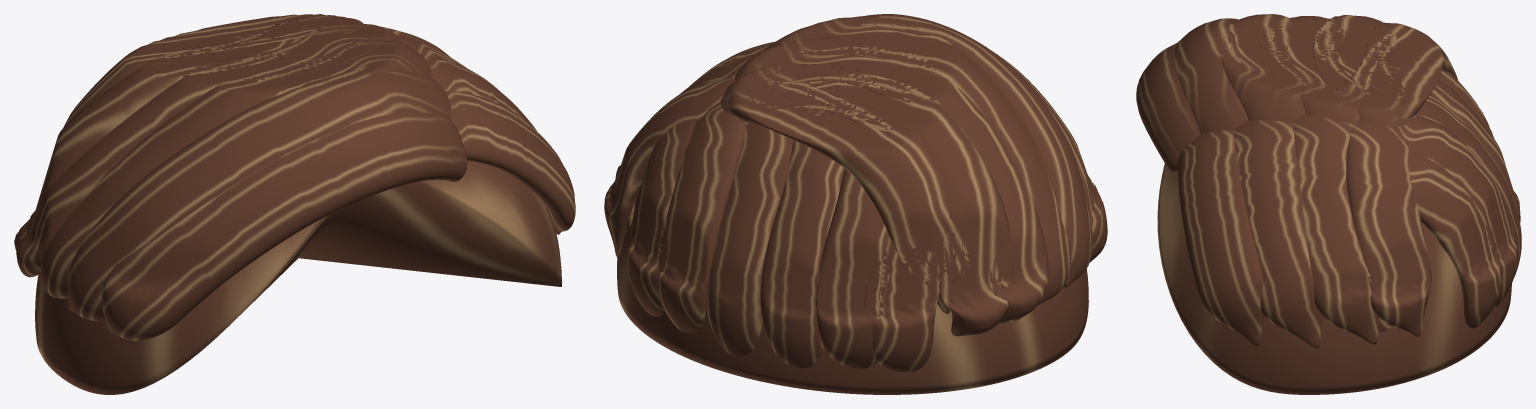
The model's file is Highlights-8b802f876ba7252-hair.glb.
3 views of the same model, side by side, from view 1: azimuth 30°, elevation 25°; view 2: azimuth 150°, elevation 25°; view 3: azimuth 270°, elevation 25° (orthographic). The views are drawn at different scales.
Parts seen in each view (by area): view 1: 226 hair / Hair / sculpted 0.002, 226 hair / Hair / sculpted 1.003, 226 hair / Hair / sculpted 1, 226 hair / Hair / sculpted 2.002; view 2: 226 hair / Hair / sculpted 1.003, 226 hair / Hair / sculpted 0.002, 226 hair / Hair / sculpted 2.002, 226 hair / Hair / sculpted 1; view 3: 226 hair / Hair / sculpted 0.002, 226 hair / Hair / sculpted 1.003, 226 hair / Hair / sculpted 2.002, 226 hair / Hair / sculpted 1.
Boxes of the visible parts, x1,y1,x2,y2 form: 226 hair / Hair / sculpted 0.002: (16, 23, 575, 340); 226 hair / Hair / sculpted 1.003: (14, 14, 537, 320); 226 hair / Hair / sculpted 1: (35, 160, 561, 394); 226 hair / Hair / sculpted 2.002: (41, 34, 466, 298); 226 hair / Hair / sculpted 1.003: (625, 14, 1092, 368); 226 hair / Hair / sculpted 0.002: (604, 37, 1107, 372); 226 hair / Hair / sculpted 2.002: (615, 15, 1071, 368); 226 hair / Hair / sculpted 1: (617, 193, 1088, 394); 226 hair / Hair / sculpted 0.002: (1136, 16, 1521, 346); 226 hair / Hair / sculpted 1.003: (1174, 15, 1517, 348); 226 hair / Hair / sculpted 2.002: (1216, 14, 1520, 344); 226 hair / Hair / sculpted 1: (1157, 163, 1511, 394).
Size of the model in its own units: 0.9751 by 0.5369 by 0.761.
Materials: 4 (4 with a texture image).
